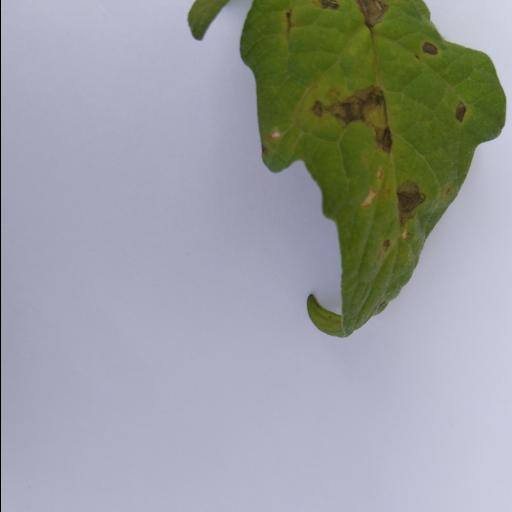disease_tomato: (237, 0, 512, 336)
